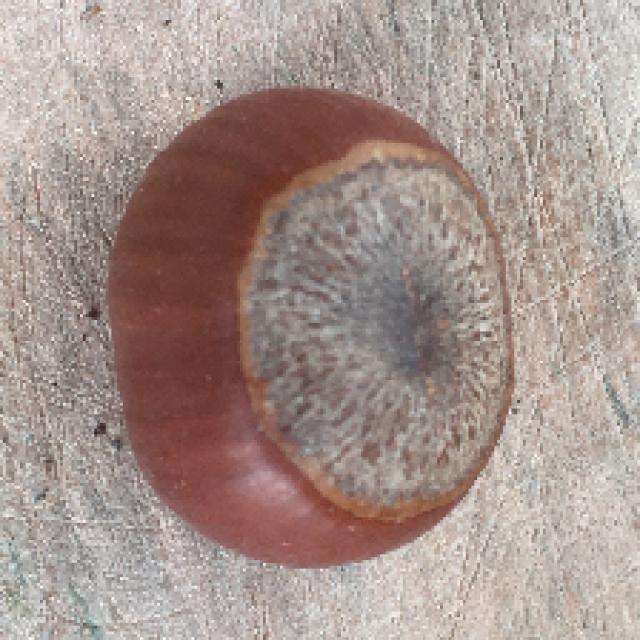damagedHazelnut: (106, 77, 520, 574)
